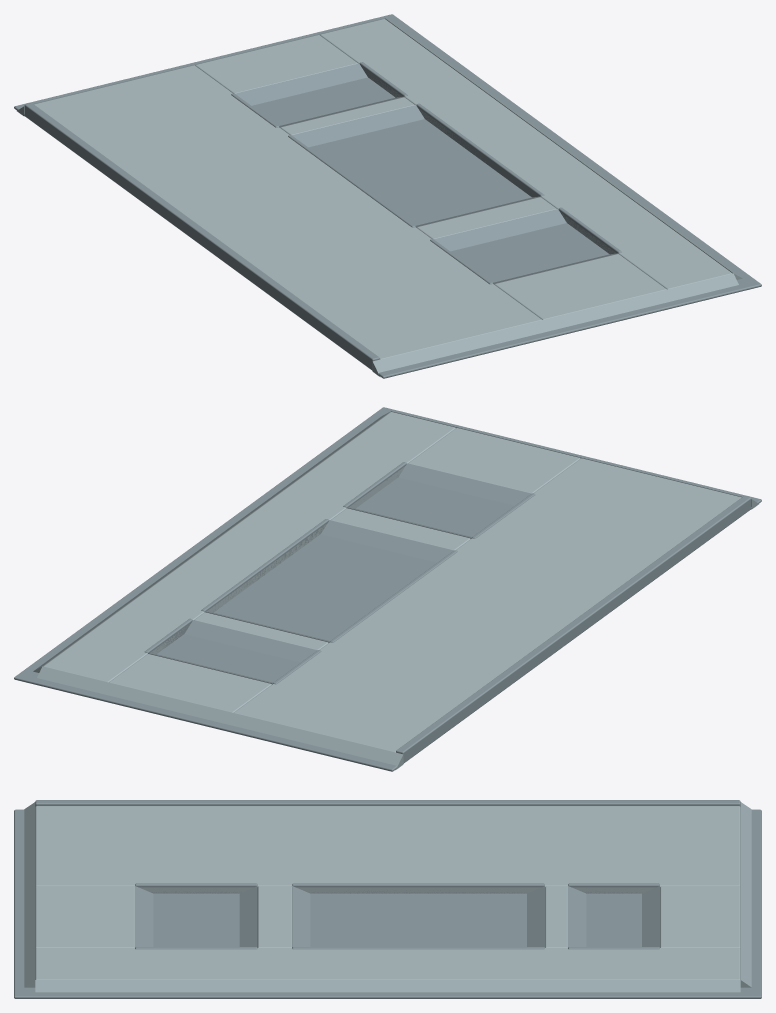
File: Terrace_A.fbx
3 renders of one model, top to bottom at view 1: azimuth 30°, elevation 25°; view 2: azimuth 150°, elevation 25°; view 3: azimuth 270°, elevation 25°, orthographic.
Visible parts, largest first — view 1: FloorBack, Skirt, FloorFront, BackKerb, PitRowFloor, ChamferEndA, PitRowFloor.003, PitRowFloor.001, Pit2SlopeB, Pit3SlopeB, Pit1SlopeB, Pit2LipFront (+2 smaller); view 2: FloorBack, Skirt, FloorFront, BackKerb, PitRowFloor, ChamferEndB, PitRowFloor.003, PitRowFloor.001, Pit3SlopeA, Pit1SlopeA, Pit2SlopeA, PitRowFloor.002 (+2 smaller); view 3: FloorBack, Skirt, FloorFront, ChamferFront, PitRowFloor, PitRowFloor.003, BackKerb, PitRowFloor.001, ChamferEndA, ChamferEndB, PitRowFloor.002, Pit2LipBack (+10 smaller).
Boxes of the visible parts, <box> form: FloorBack: <box>34,65,541,359</box>; Skirt: <box>14,14,761,378</box>; FloorFront: <box>320,19,732,289</box>; BackKerb: <box>24,103,379,369</box>; PitRowFloor: <box>494,254,666,319</box>; ChamferEndA: <box>372,273,738,377</box>; PitRowFloor.003: <box>195,35,357,93</box>; PitRowFloor.001: <box>417,197,556,238</box>; Pit2SlopeB: <box>292,105,424,147</box>; Pit3SlopeB: <box>235,63,367,105</box>; Pit1SlopeB: <box>434,209,566,251</box>; Pit2LipFront: <box>416,103,544,197</box>; FloorBack: <box>234,458,741,752</box>; Skirt: <box>14,407,761,771</box>; FloorFront: <box>43,412,455,682</box>; BackKerb: <box>396,496,751,762</box>; PitRowFloor: <box>408,428,580,493</box>; ChamferEndB: <box>37,666,403,770</box>; PitRowFloor.003: <box>109,654,271,712</box>; PitRowFloor.001: <box>331,508,470,550</box>; Pit3SlopeA: <box>184,620,316,662</box>; Pit1SlopeA: <box>399,463,531,505</box>; Pit2SlopeA: <box>321,520,453,562</box>; PitRowFloor.002: <box>194,612,328,650</box>; FloorBack: <box>35,806,740,893</box>; Skirt: <box>14,809,761,998</box>; FloorFront: <box>35,948,740,979</box>; ChamferFront: <box>35,980,740,992</box>; PitRowFloor: <box>35,886,134,948</box>; PitRowFloor.003: <box>660,886,740,948</box>; BackKerb: <box>35,800,740,806</box>; PitRowFloor.001: <box>257,886,292,947</box>; ChamferEndA: <box>24,802,35,987</box>; ChamferEndB: <box>740,802,751,987</box>; PitRowFloor.002: <box>545,886,567,947</box>; Pit2LipBack: <box>292,883,544,893</box>.
Size of the model in its own units: 5780 by 220 by 9760.
